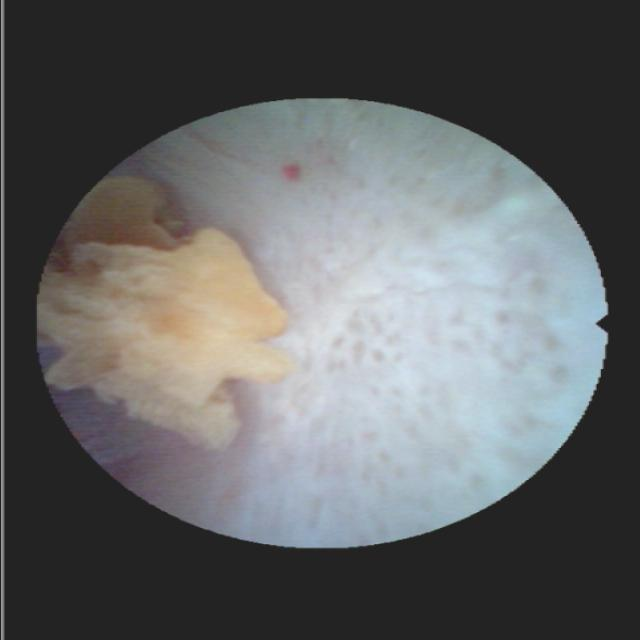stone: (41, 178, 288, 452)
tissue: (59, 107, 601, 538)
